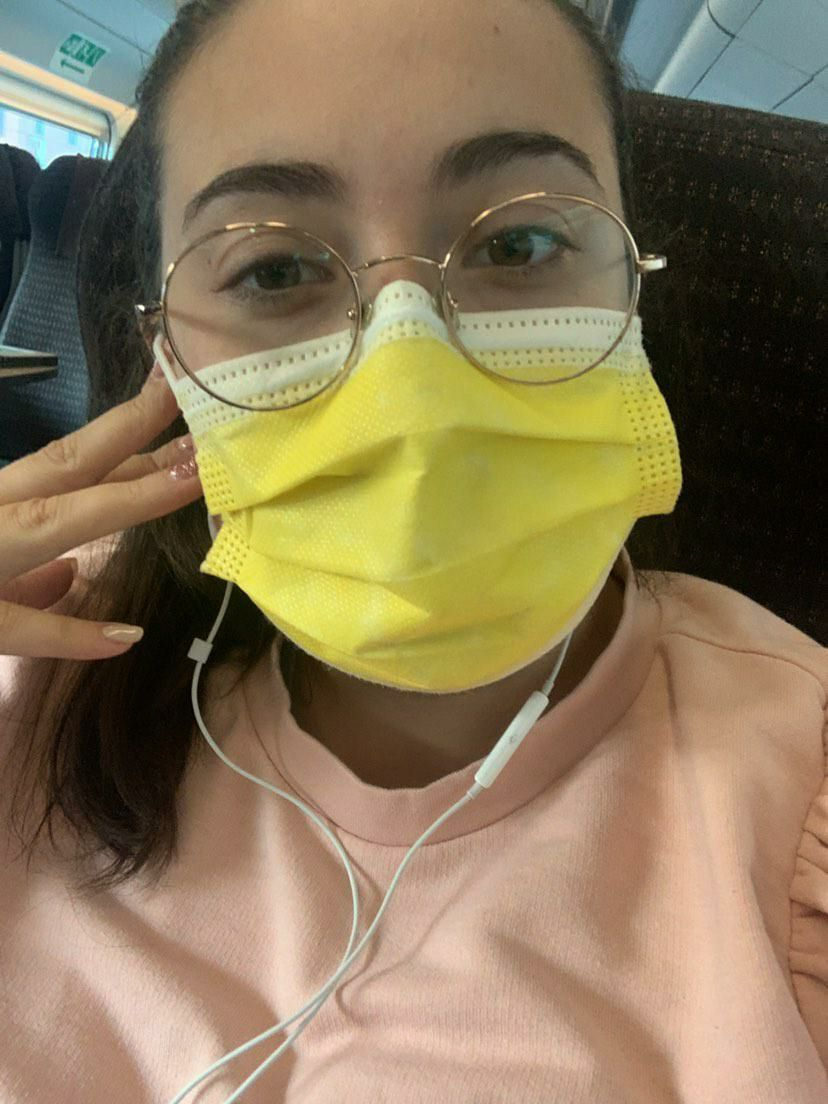with_mask: (102, 1, 692, 673)
